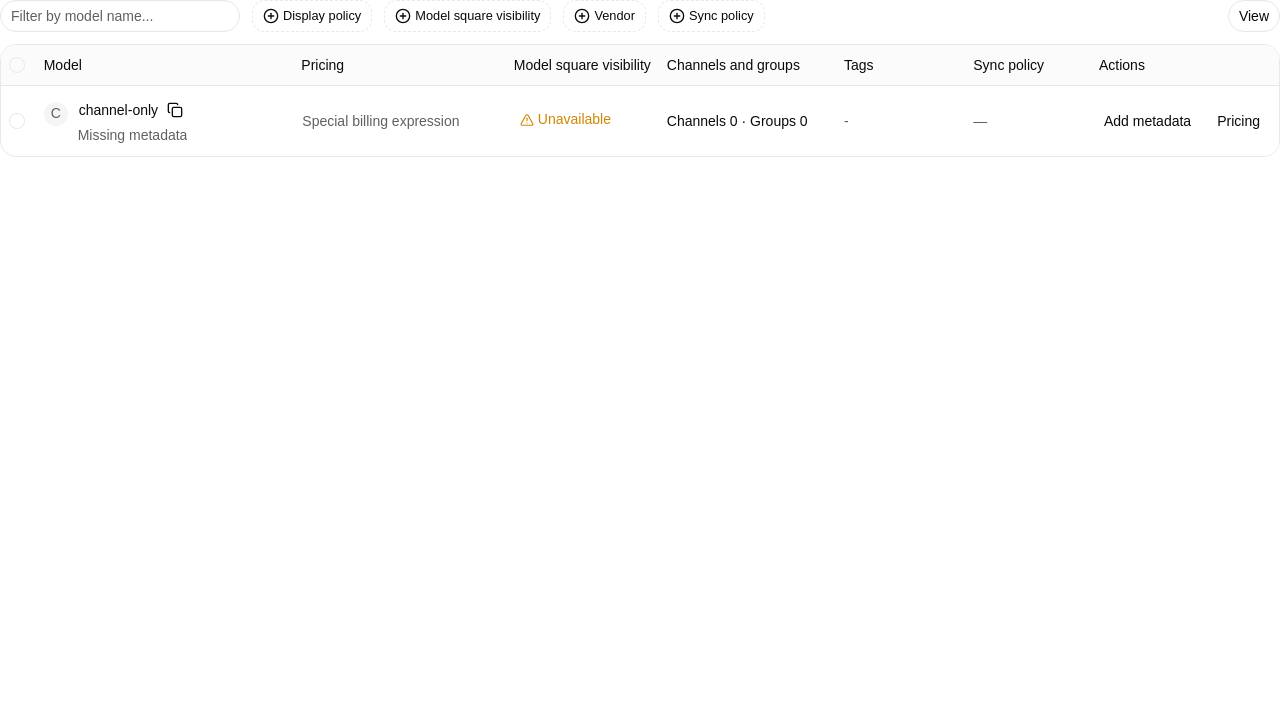
Test: shows an unrecognized expression as special and retains its full source in pricing details
Expected: the button "channel-only" is shown, [78, 98, 159, 120]
Step 1. Click the button with aria-label "View pricing for channel-only" → click(400, 121), box [301, 106, 498, 136]
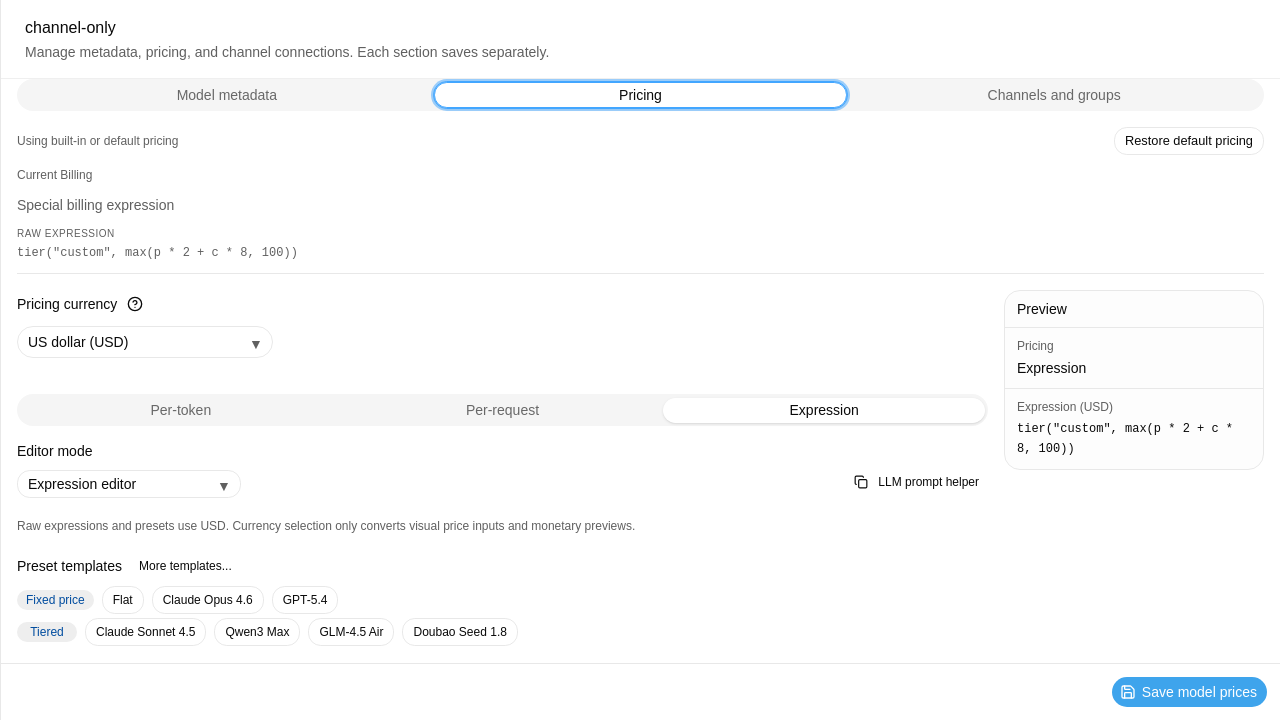
Result: the element "Current Billing" shows "tier(\"custom\", max(p * 2 + c * 8, 100))" at [17, 246, 298, 260]
